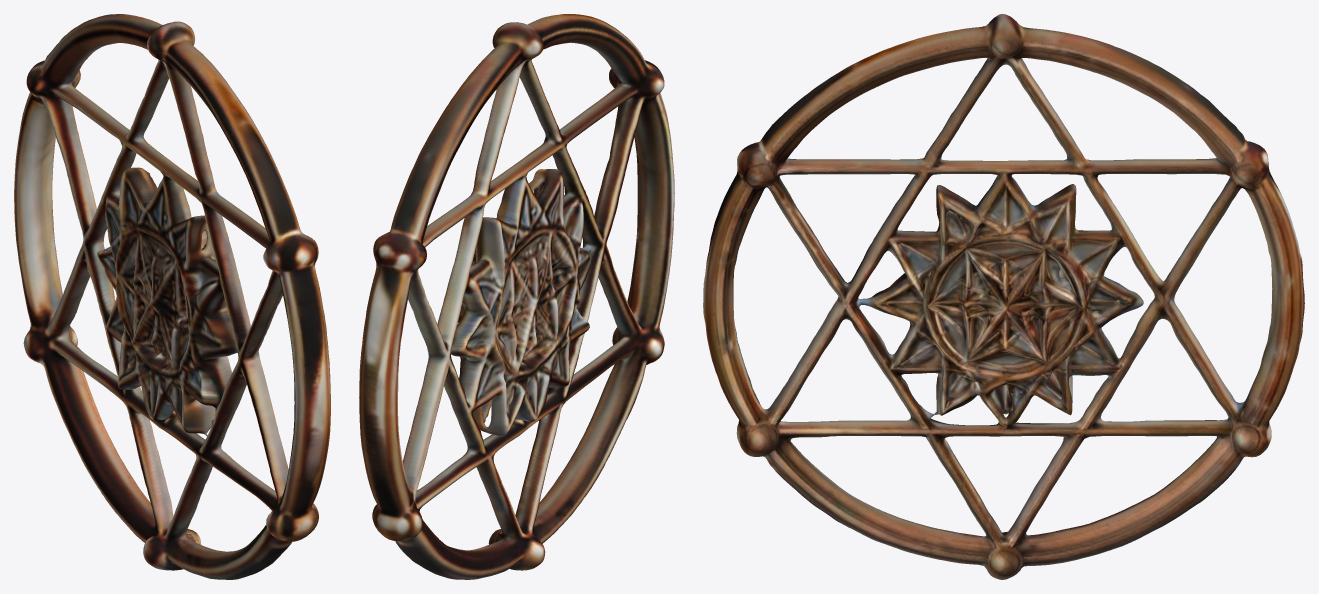
Rendered from enneagram_3d.glb.
3 views of the same model, side by side, from view 1: azimuth 30°, elevation 25°; view 2: azimuth 150°, elevation 25°; view 3: azimuth 270°, elevation 25° (orthographic). The views are drawn at different scales.
Parts seen in each view (by area): view 1: tripo_node_a8ff139e-1e63-4cb0-9834-36deb811aba2; view 2: tripo_node_a8ff139e-1e63-4cb0-9834-36deb811aba2; view 3: tripo_node_a8ff139e-1e63-4cb0-9834-36deb811aba2.
Boxes of the visible parts, <box> form: tripo_node_a8ff139e-1e63-4cb0-9834-36deb811aba2: <box>14,14,330,579</box>; tripo_node_a8ff139e-1e63-4cb0-9834-36deb811aba2: <box>359,14,674,579</box>; tripo_node_a8ff139e-1e63-4cb0-9834-36deb811aba2: <box>703,14,1304,579</box>.
Bounding box in the file's own units: 0.0789 × 0.7729 × 0.7574.
1 material, 1 textured.
